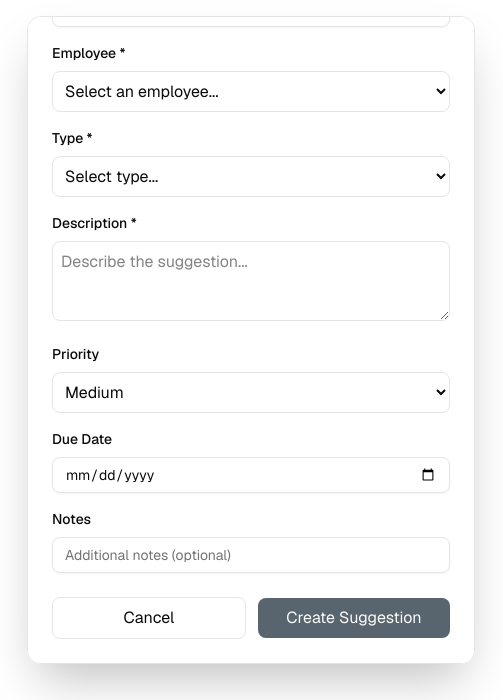
Test case: SuggestionModal › Form Validation › shows validation errors for all required fields when empty
The width and height of the screenshot is (503, 700).
(page scrolled)
Click the button "Create Suggestion".
click(354, 618)  # box [258,598,450,638]
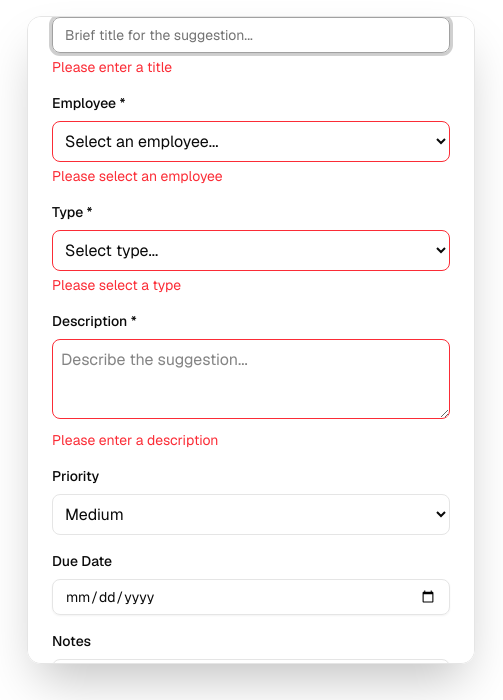
Result: the text "Please select an employee" is shown at [52,167,223,185]
Result: the text "Please enter a title" is shown at [52,58,172,76]
Result: the text "Please select a type" is shown at [52,276,181,294]
